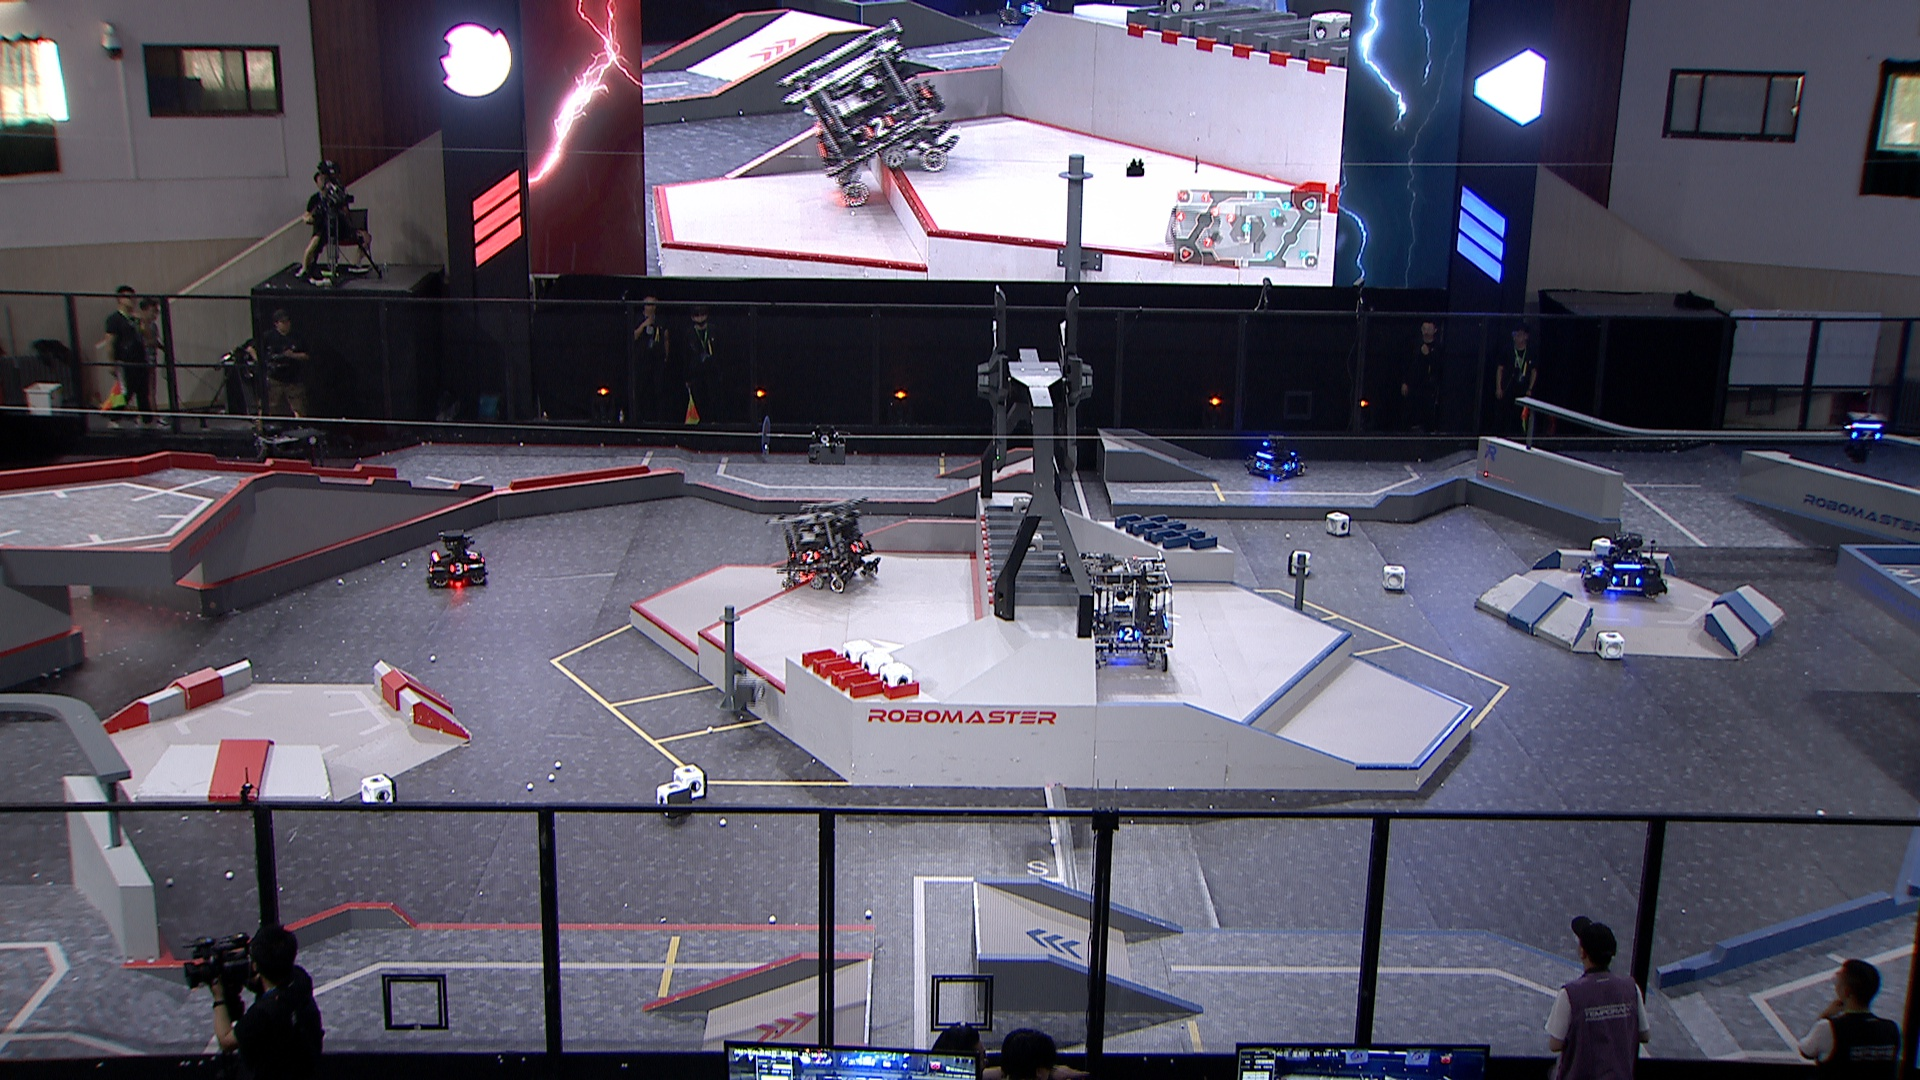armor: (1607, 572, 1642, 588), (1117, 626, 1141, 644), (1851, 429, 1882, 442), (800, 547, 822, 564), (1586, 555, 1607, 572), (462, 546, 480, 560), (1280, 458, 1299, 472), (448, 562, 468, 575), (1578, 564, 1593, 580), (851, 538, 865, 553), (1253, 460, 1271, 471)
car: (1072, 549, 1176, 674), (765, 493, 884, 595), (247, 423, 334, 508), (1575, 527, 1671, 600), (425, 527, 487, 589), (1240, 433, 1305, 481)
ignore: (782, 21, 957, 211), (996, 1, 1069, 26)
watcher: (1837, 409, 1888, 462)
